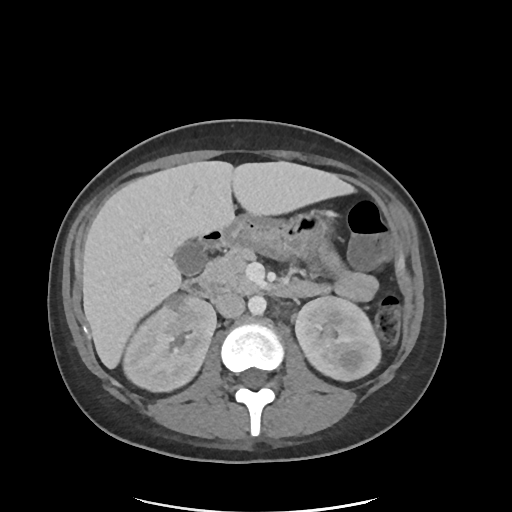Lesion: (335, 345, 368, 375)
